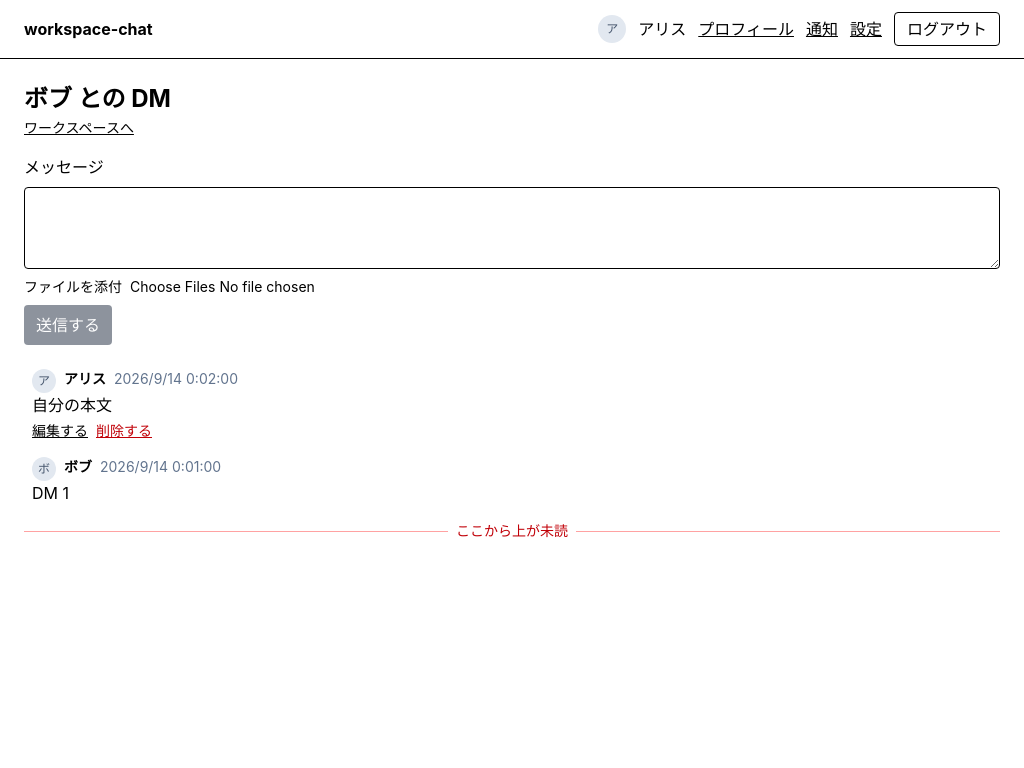
Test: DM の画面（F-19） › 自分のメッセージにだけ編集・削除を出し、編集は DM の api に送ってその場で置き換え、削除は確かめてから送る
Expected: the heading "ボブ との DM" is shown, [24, 84, 171, 113]
Step 1. Click the button "編集する" → (60, 431), box [32, 421, 88, 441]
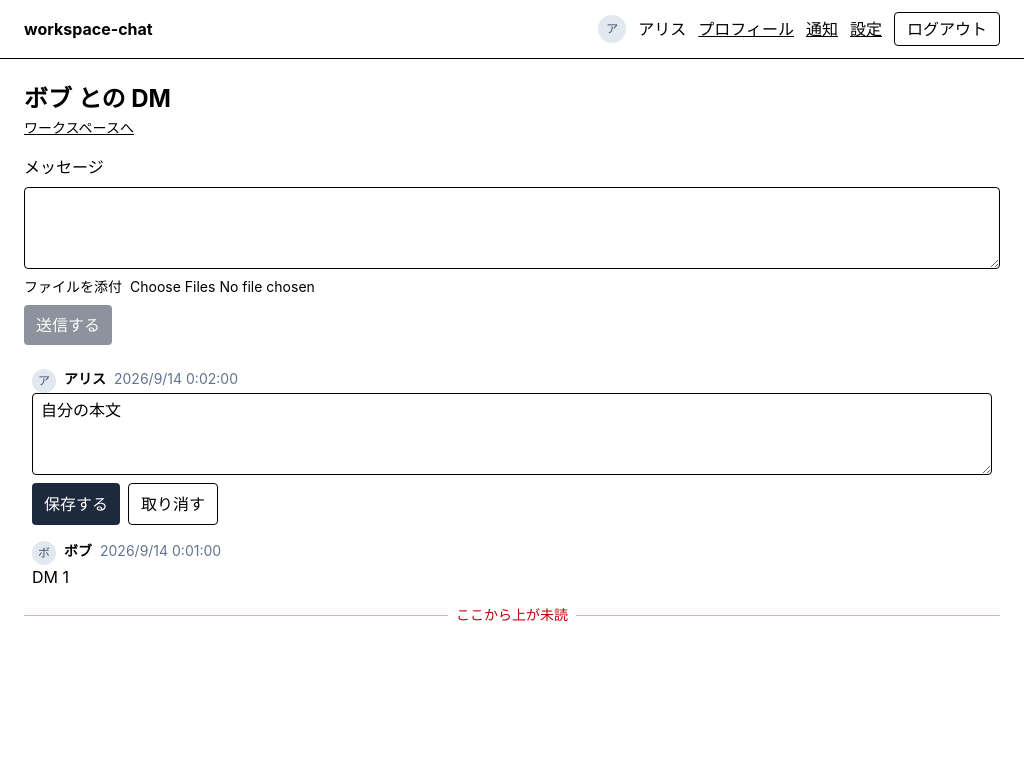
Step 2. Replace the text in the text box named "メッセージを編集" with "直した本文" → (512, 434), box [32, 393, 992, 475]
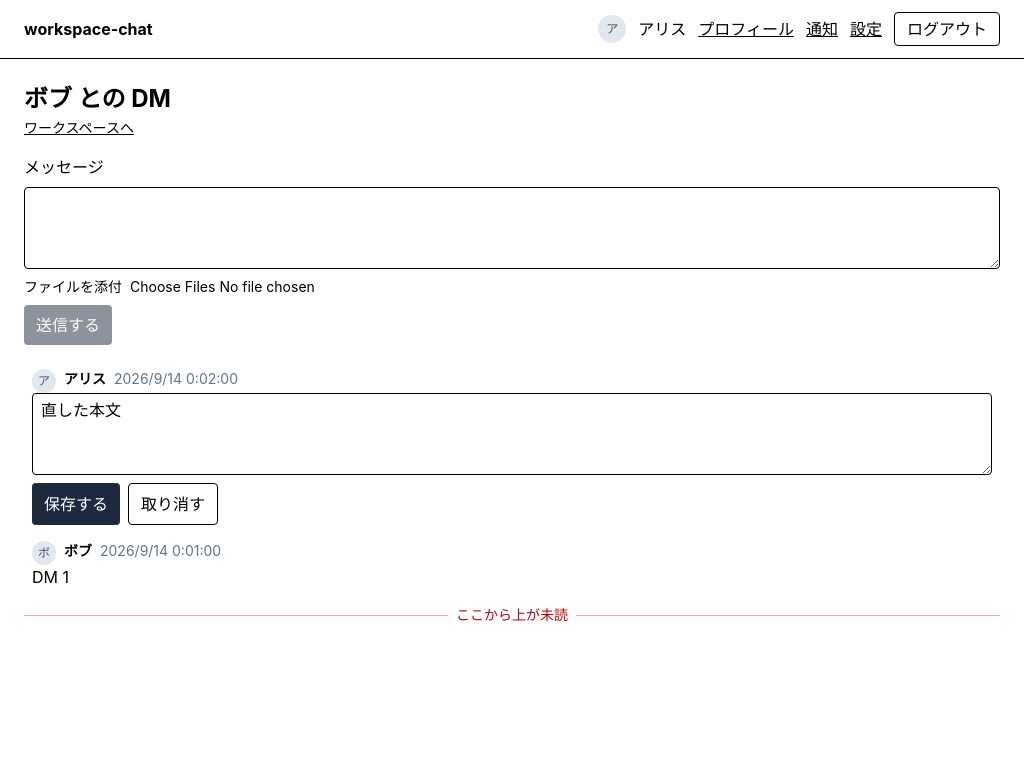
Step 3. Click the button "保存する" → (76, 504), box [32, 483, 120, 525]
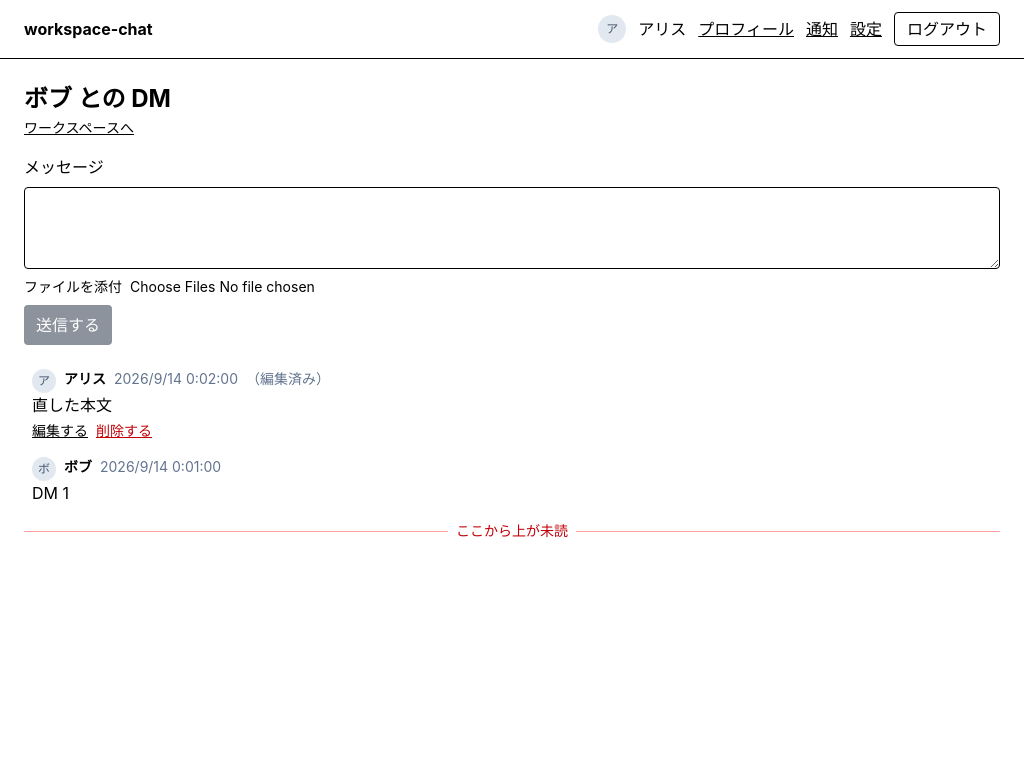
Expected: the text "直した本文" is shown, [32, 395, 112, 415]
Step 4. Click the button "削除する" → (124, 431), box [96, 421, 152, 441]
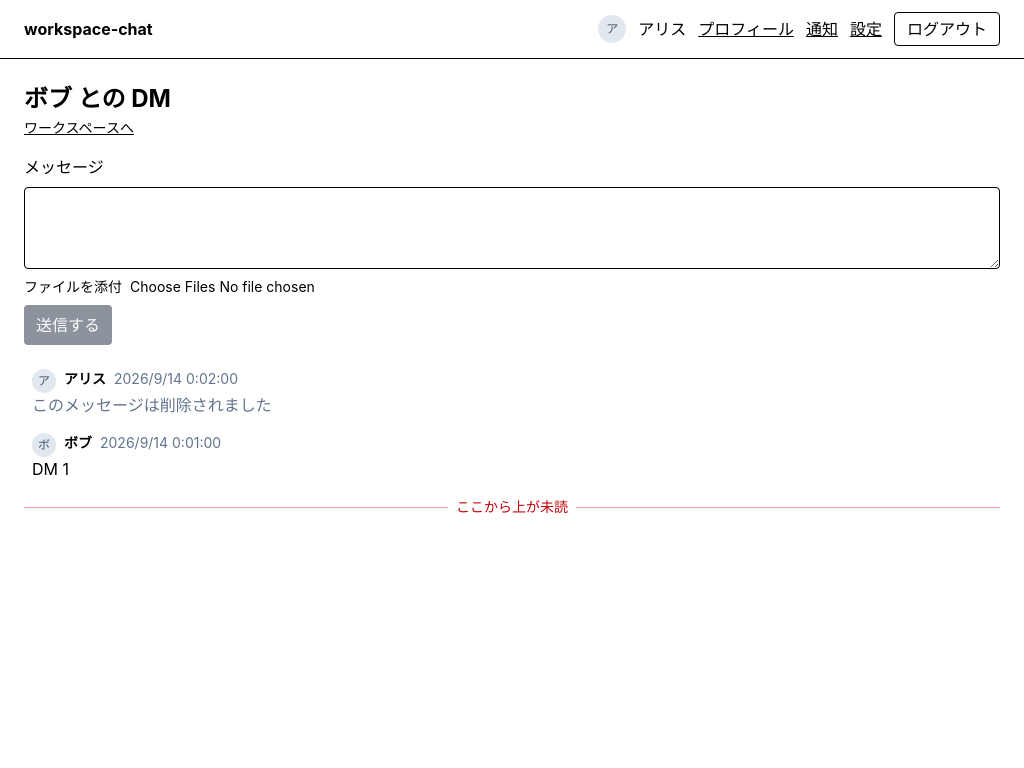
Expected: the text "このメッセージは削除されました" is shown, [32, 395, 272, 415]
